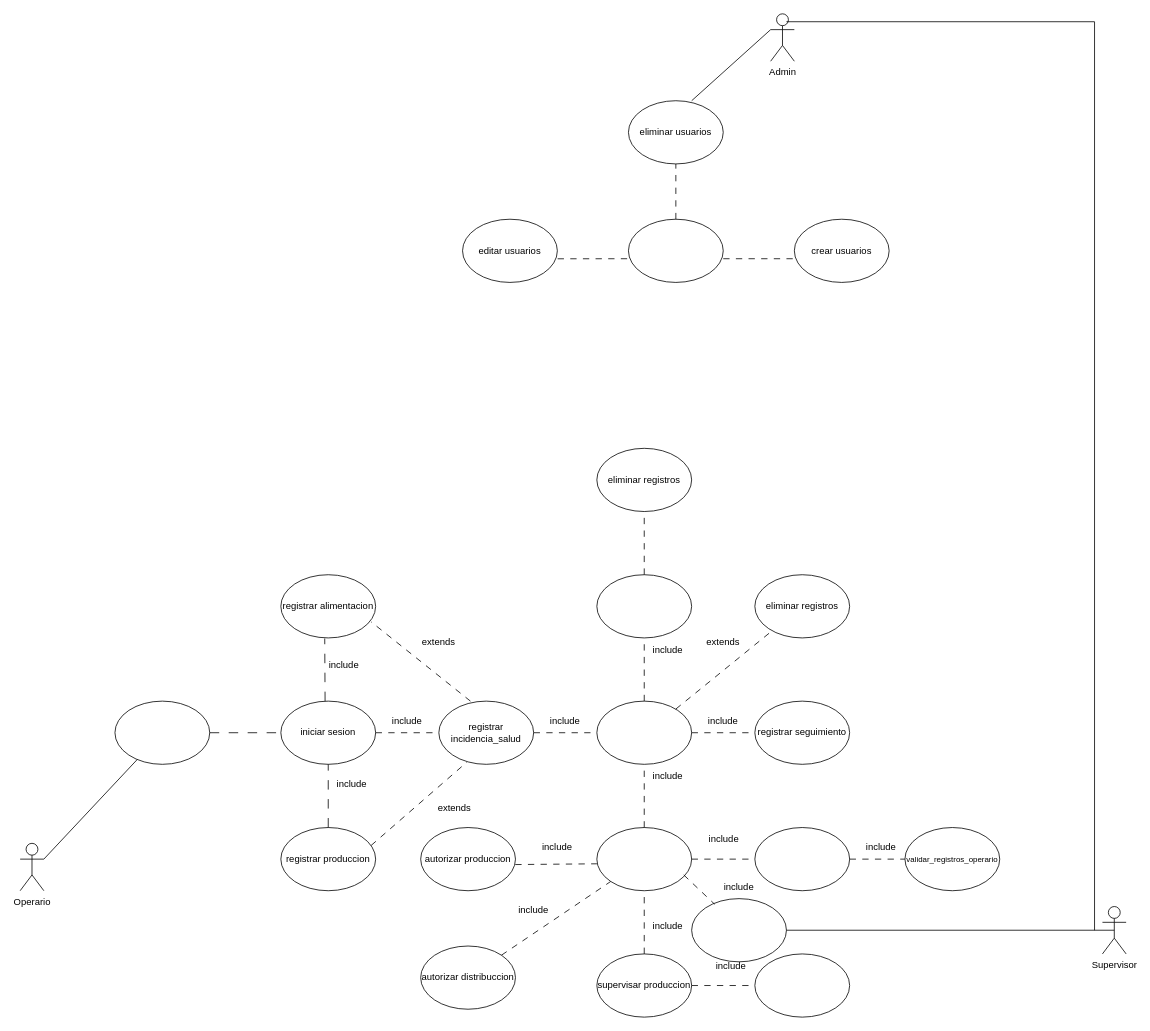
Some shapes in this 1150 by 1031 pixel diagram are drawn without their labels. Each missing label, with the box of its shape:
controlar salud: (596, 700, 692, 764)
gestionar usuarios: (628, 218, 723, 282)
registrar tratamiento: (596, 574, 692, 638)
registrarse: (114, 700, 210, 764)
supervisar alimentacion: (754, 827, 850, 891)
validar cantidad: (754, 953, 850, 1017)
ver lotes: (596, 827, 692, 891)
ver reportes_generales: (691, 898, 786, 962)
